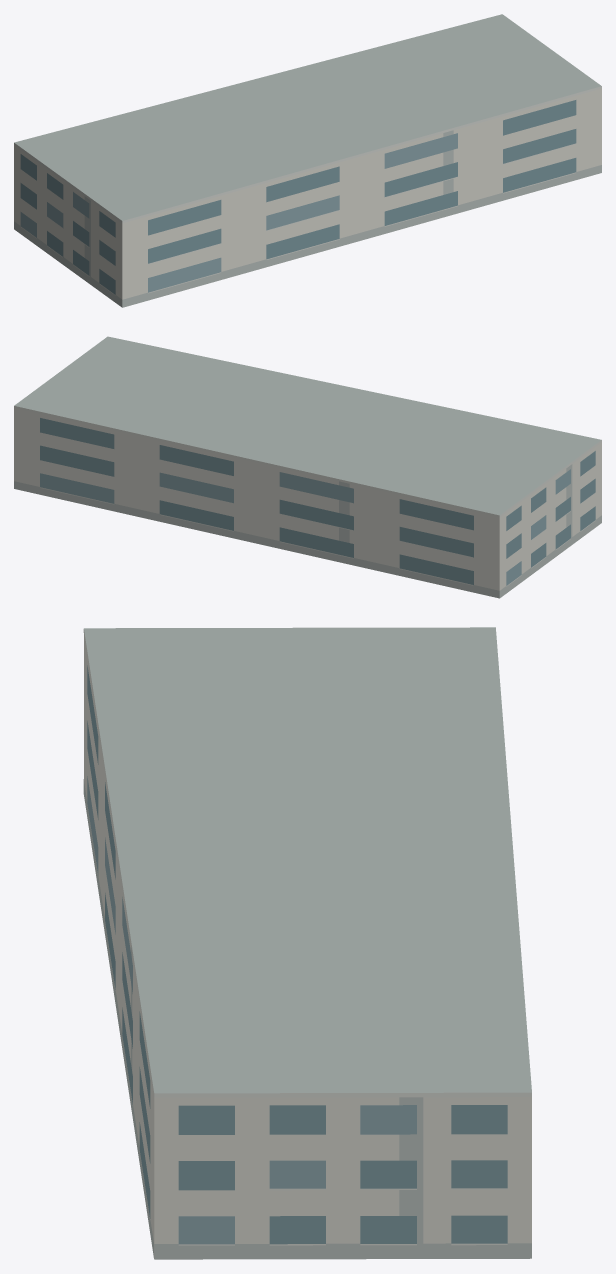
File: survey-upis-32503043.glb
3 renders of one model, top to bottom at view 1: azimuth 30°, elevation 25°; view 2: azimuth 150°, elevation 25°; view 3: azimuth 270°, elevation 25°, orthographic. The views are drawn at different scales.
Visible parts, largest first — view 1: survey-upis-32503043.tmp; view 2: survey-upis-32503043.tmp; view 3: survey-upis-32503043.tmp.
Boxes of the visible parts, x1=… form: survey-upis-32503043.tmp: x1=14, y1=14, x2=601, y2=307; survey-upis-32503043.tmp: x1=14, y1=336, x2=601, y2=598; survey-upis-32503043.tmp: x1=83, y1=627, x2=531, y2=1259.
Size of the model in its own units: 55.06 by 9.15 by 22.38.
